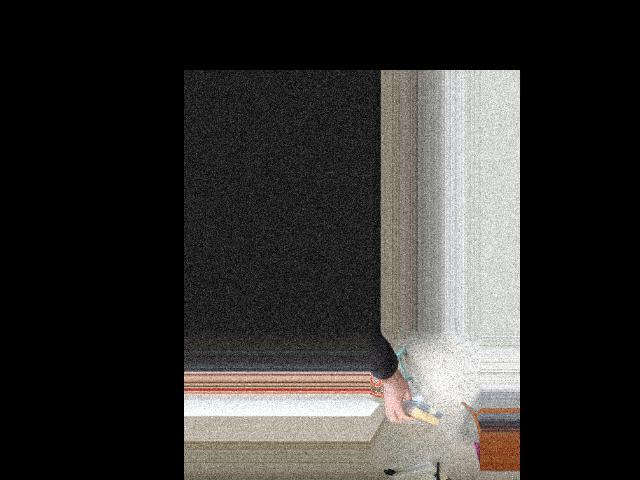cheese: (384, 398, 446, 425)
